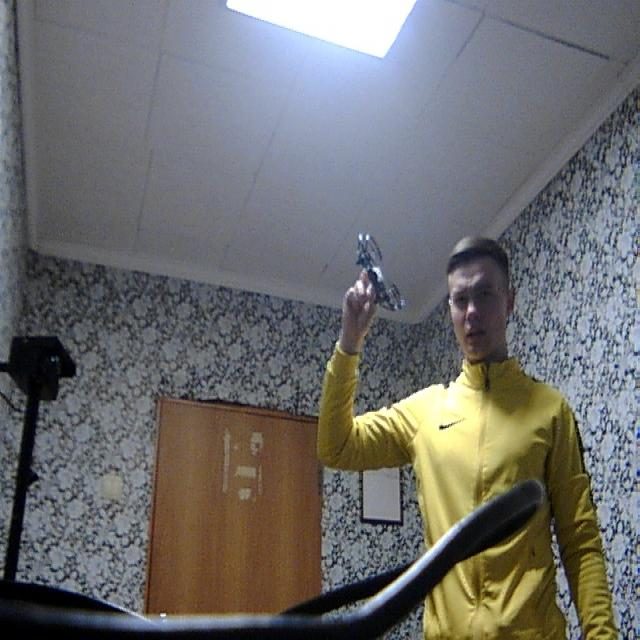drone: (340, 211, 405, 320)
